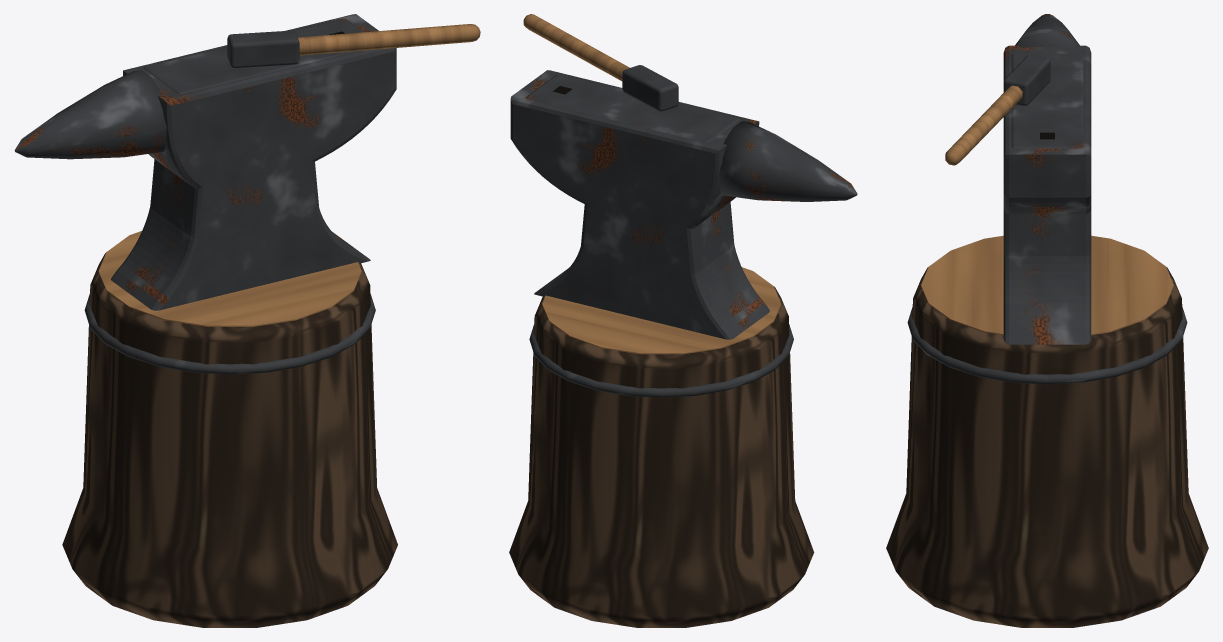
File: anvil.glb
The picture shows the model from 3 angles, left to right: view 1: azimuth 30°, elevation 25°; view 2: azimuth 150°, elevation 25°; view 3: azimuth 270°, elevation 25°; orthographic projection. The views are drawn at different scales.
Parts seen in each view (by area): view 1: anvil; view 2: anvil; view 3: anvil.
Boxes of the visible parts, left/top/right/bottom form: anvil: left=14, top=14, right=480, bottom=627; anvil: left=509, top=14, right=857, bottom=627; anvil: left=886, top=14, right=1208, bottom=627.
Size of the model in its own units: 0.6862 by 0.8351 by 0.4801.
Materials: 5 (4 with a texture image).
